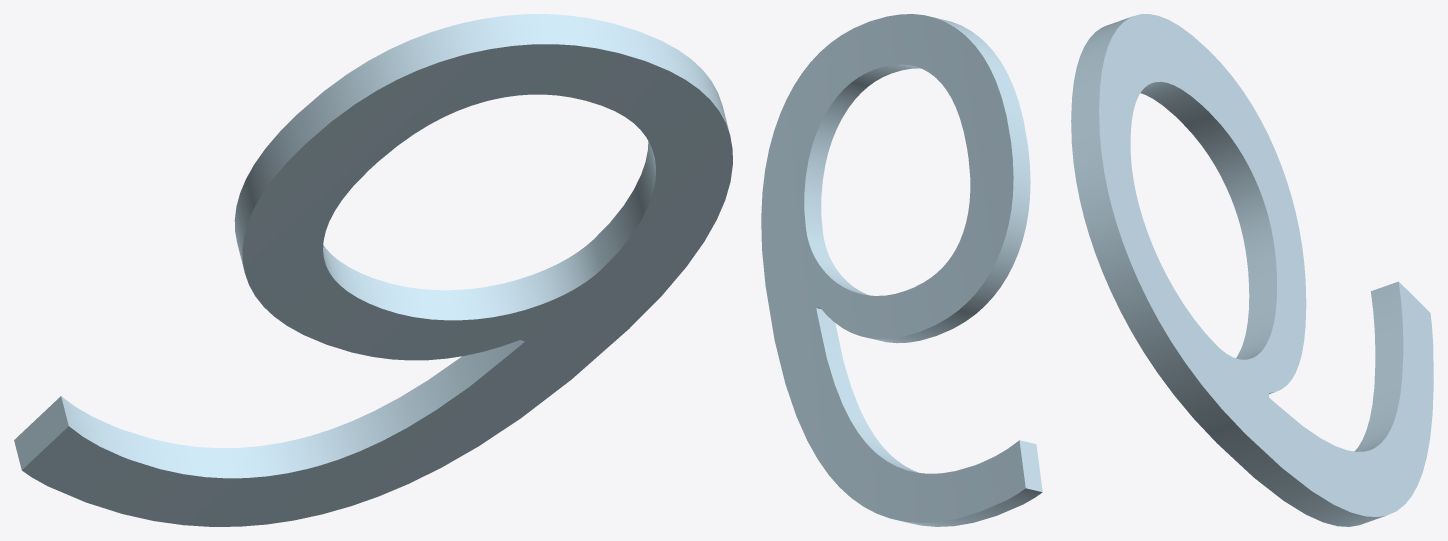
File: Number_6.gltf
3 renders of one model, left to right at view 1: azimuth 30°, elevation 25°; view 2: azimuth 150°, elevation 25°; view 3: azimuth 270°, elevation 25°, orthographic. The views are drawn at different scales.
Parts seen in each view (by area): view 1: Sub_2_Cell_1_2_Number_6; view 2: Sub_2_Cell_1_2_Number_6; view 3: Sub_2_Cell_1_2_Number_6.
Part boxes in pixels (x1=…): Sub_2_Cell_1_2_Number_6: x1=14, y1=14, x2=732, y2=526; Sub_2_Cell_1_2_Number_6: x1=761, y1=14, x2=1042, y2=526; Sub_2_Cell_1_2_Number_6: x1=1071, y1=14, x2=1433, y2=526.
Bounding box in the file's own units: 0.0209 × 0.0218 × 0.014.
